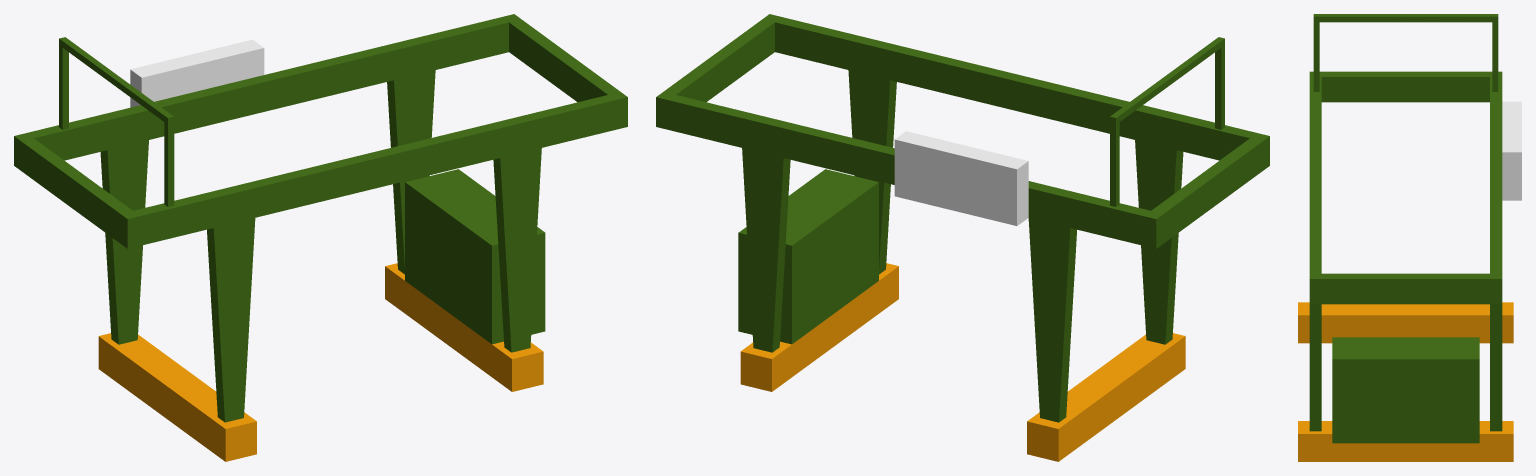
Rendered from rmg.glb.
The picture shows the model from 3 angles, left to right: view 1: azimuth 30°, elevation 25°; view 2: azimuth 150°, elevation 25°; view 3: azimuth 270°, elevation 25°; orthographic projection. The views are drawn at different scales.
Parts seen in each view (by area): view 1: mesh3ds in; view 2: mesh3ds in; view 3: mesh3ds in.
Boxes of the visible parts, <box> form: mesh3ds in: <box>14,14,627,461</box>; mesh3ds in: <box>656,14,1269,461</box>; mesh3ds in: <box>1298,14,1521,461</box>.
Bounding box in the file's own units: 38.56 × 25.7 × 17.6.
Materials: 1 (1 with a texture image).
